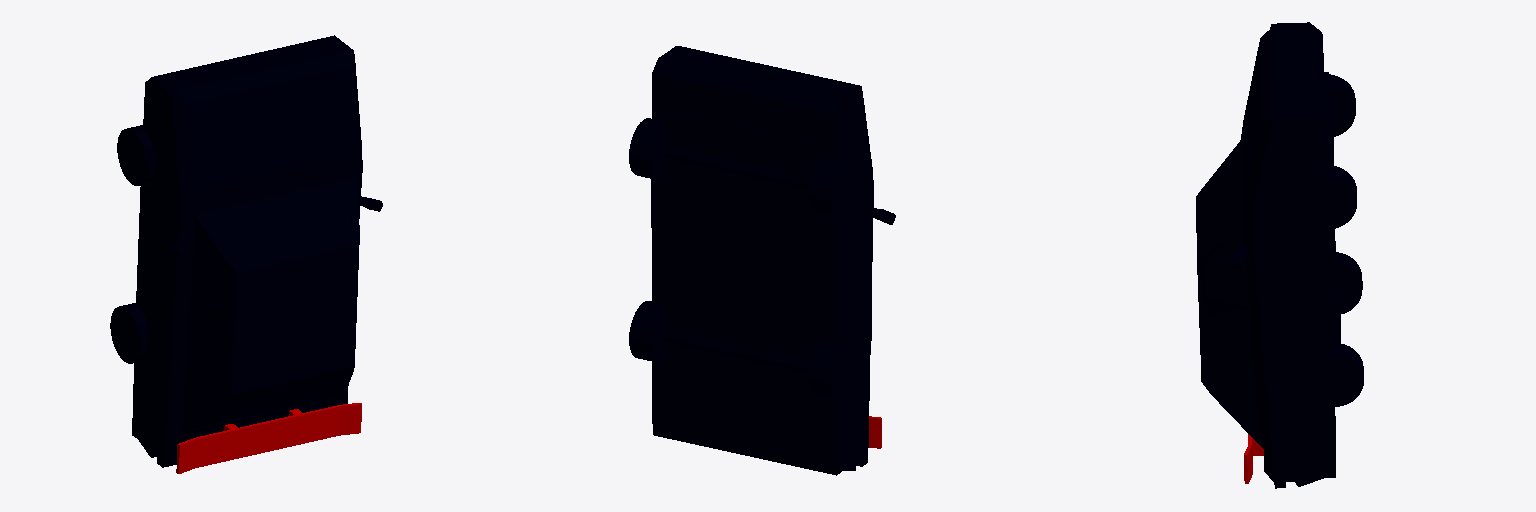
Rendered from blue_car.obj.
3 renders of one model, left to right at view 1: azimuth 30°, elevation 25°; view 2: azimuth 150°, elevation 25°; view 3: azimuth 270°, elevation 25°, orthographic.
Visible parts, largest first — view 1: Cylinder.002, Cube.003; view 2: Cylinder.002; view 3: Cylinder.002.
Part boxes in pixels (left/top/right/bottom): Cylinder.002: left=110, top=35, right=382, bottom=467; Cube.003: left=176, top=403, right=361, bottom=473; Cylinder.002: left=629, top=46, right=895, bottom=475; Cylinder.002: left=1196, top=22, right=1363, bottom=488.
Bounding box in the file's own units: 2.31 × 3.96 × 1.59.